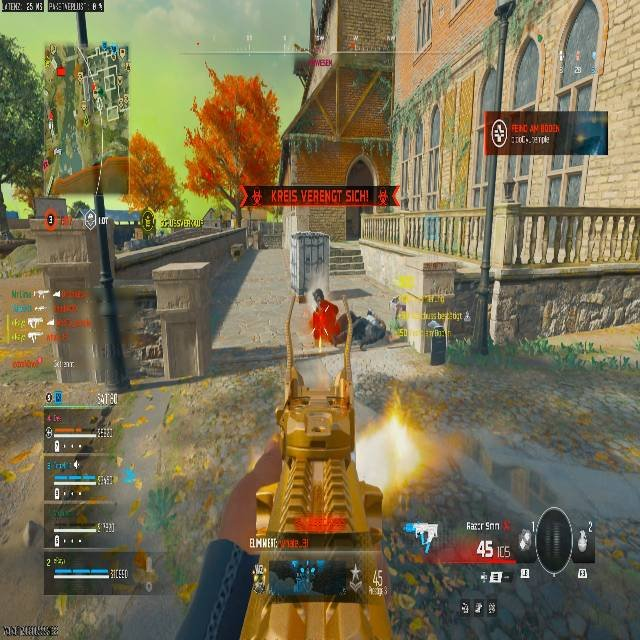player: (310, 289, 334, 345), (391, 296, 406, 330)
